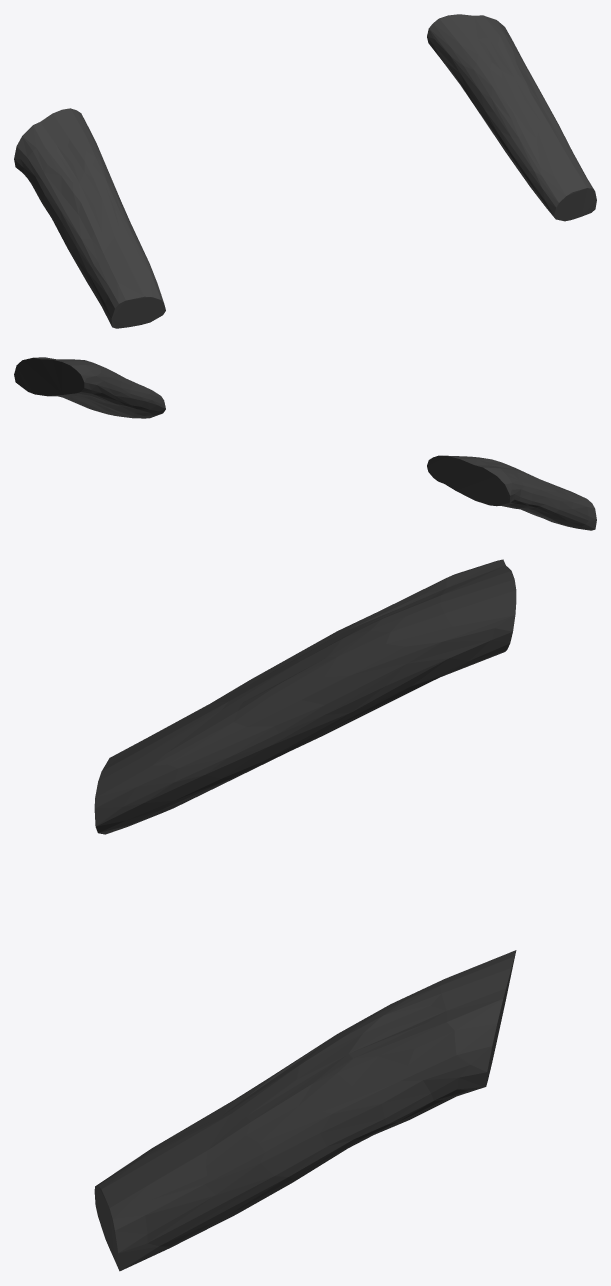
Rendered from m_rectus_capitis_lateralis.glb.
The picture shows the model from 3 angles, top to bottom: view 1: azimuth 30°, elevation 25°; view 2: azimuth 150°, elevation 25°; view 3: azimuth 270°, elevation 25°; orthographic projection. The views are drawn at different scales.
Visible parts, largest first — view 1: m_rectus_capitis_lateralis; view 2: m_rectus_capitis_lateralis; view 3: m_rectus_capitis_lateralis.
Part boxes in pixels (x1=…): m_rectus_capitis_lateralis: x1=14, y1=14, x2=596, y2=328; m_rectus_capitis_lateralis: x1=14, y1=357, x2=596, y2=530; m_rectus_capitis_lateralis: x1=94, y1=559, x2=516, y2=1271.
Bounding box in the file's own units: 0.00138 × 0.000361 × 0.000506.
1 material, 1 textured.
